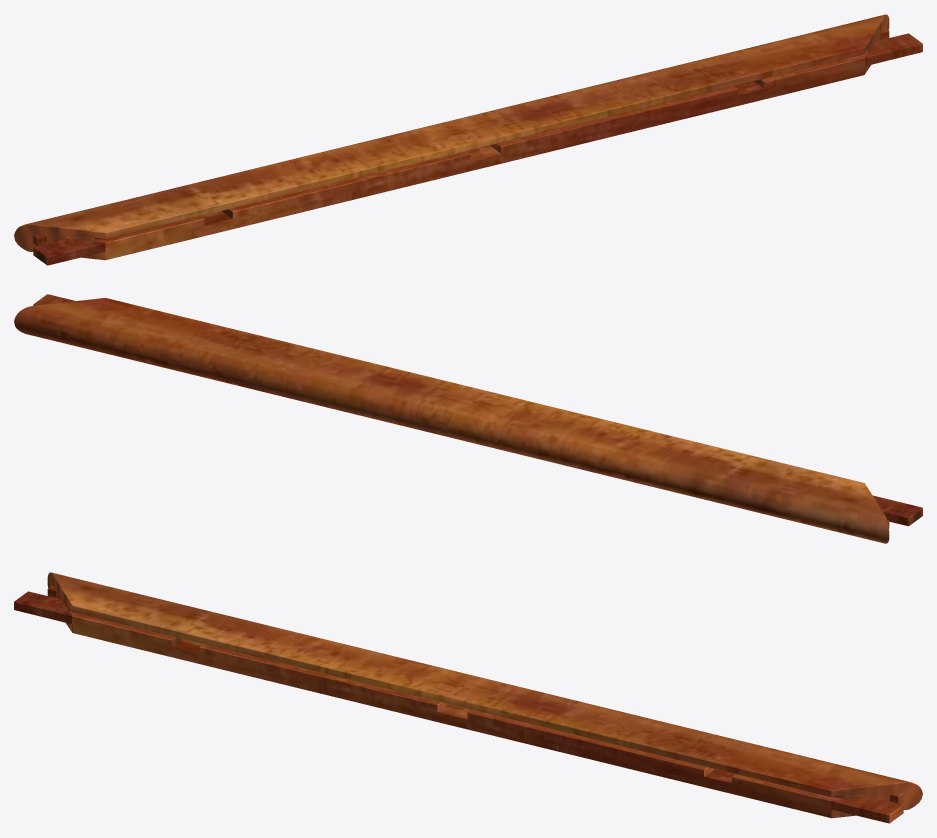
The model's file is ytsy_J_dabian_22.FBX.
The picture shows the model from 3 angles, top to bottom: view 1: azimuth 30°, elevation 25°; view 2: azimuth 150°, elevation 25°; view 3: azimuth 330°, elevation 25°; orthographic projection.
Parts seen in each view (by area): view 1: ytsy_J_dabian_22; view 2: ytsy_J_dabian_22; view 3: ytsy_J_dabian_22.
Part boxes in pixels (bbox=[...]): ytsy_J_dabian_22: bbox=[14, 14, 922, 265]; ytsy_J_dabian_22: bbox=[14, 294, 922, 543]; ytsy_J_dabian_22: bbox=[14, 572, 922, 823].
Bounding box in the file's own units: 105 × 3.25 × 7.
